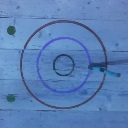Axe Tip: (94, 63, 105, 67)
